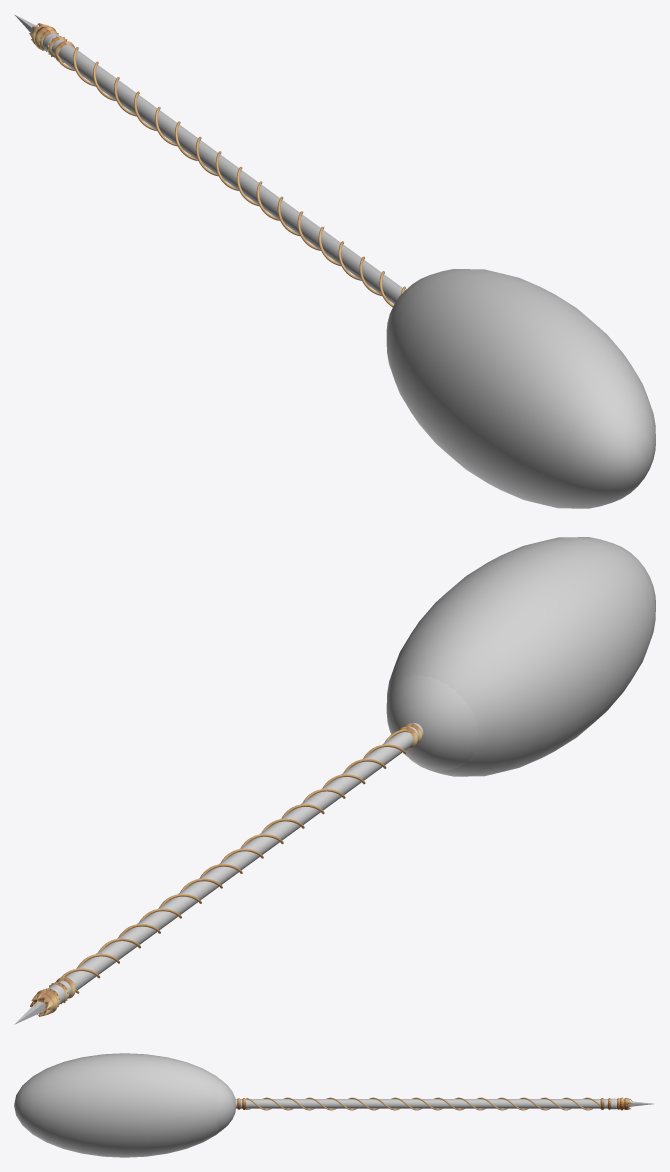
Rendered from Cetro.fbx.
The picture shows the model from 3 angles, top to bottom: view 1: azimuth 30°, elevation 25°; view 2: azimuth 150°, elevation 25°; view 3: azimuth 270°, elevation 25°; orthographic projection. The views are drawn at different scales.
Parts seen in each view (by area): view 1: Sphere045, Cylinder004, Helix001, Helix002; view 2: Sphere045, Cylinder004, Sphere046, Helix002, Helix001; view 3: Sphere045, Cylinder004, Sphere046, Helix002, Helix001.
Boxes of the visible parts, left/top/right/bottom form: Sphere045: left=386, top=269, right=655, bottom=508; Cylinder004: left=51, top=39, right=405, bottom=304; Helix001: left=56, top=54, right=393, bottom=307; Helix002: left=73, top=47, right=405, bottom=295; Sphere045: left=386, top=537, right=655, bottom=776; Cylinder004: left=58, top=723, right=423, bottom=996; Sphere046: left=386, top=674, right=486, bottom=770; Helix002: left=61, top=729, right=409, bottom=978; Helix001: left=75, top=744, right=406, bottom=993; Sphere045: left=14, top=1053, right=219, bottom=1157; Cylinder004: left=235, top=1099, right=607, bottom=1108; Sphere046: left=213, top=1079, right=235, bottom=1131; Helix002: left=246, top=1097, right=601, bottom=1110; Helix001: left=246, top=1097, right=592, bottom=1110.
Bounding box in the file's own units: 9.88 × 10.14 × 62.47.
